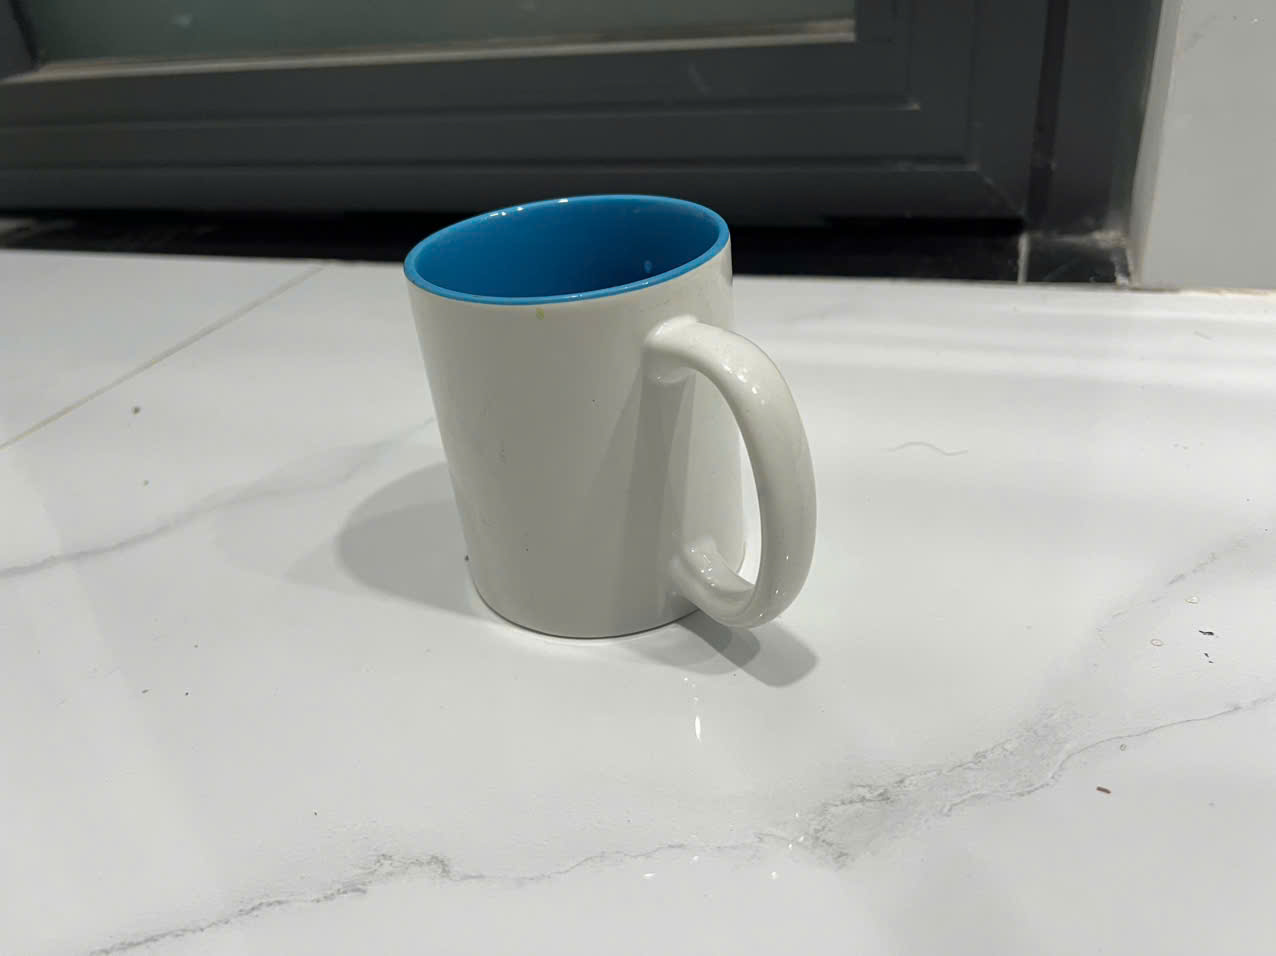ly coc: (384, 202, 850, 652)
